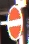No entry: (5, 5, 24, 39)
